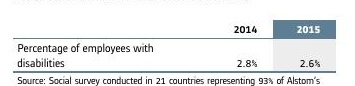table: (0, 0, 355, 86)
